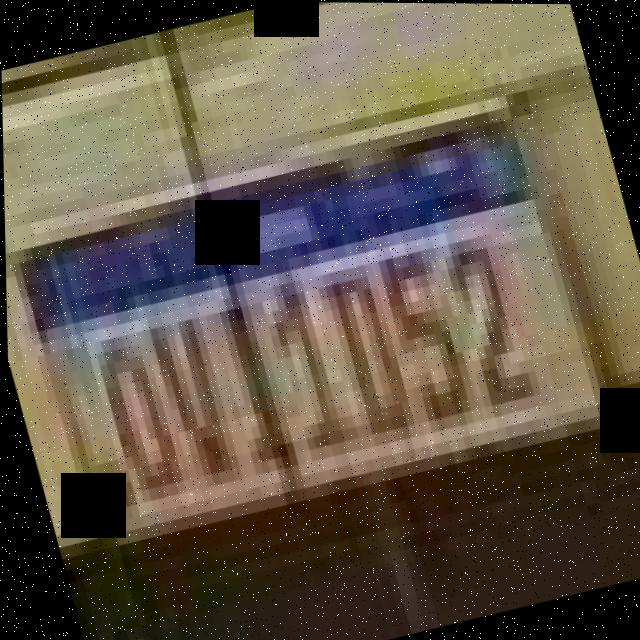1: (257, 267, 353, 464)
5: (370, 239, 483, 437)
D: (311, 252, 418, 449)
I: (200, 282, 303, 484)
Q: (88, 321, 190, 508)
V: (140, 306, 243, 494)
